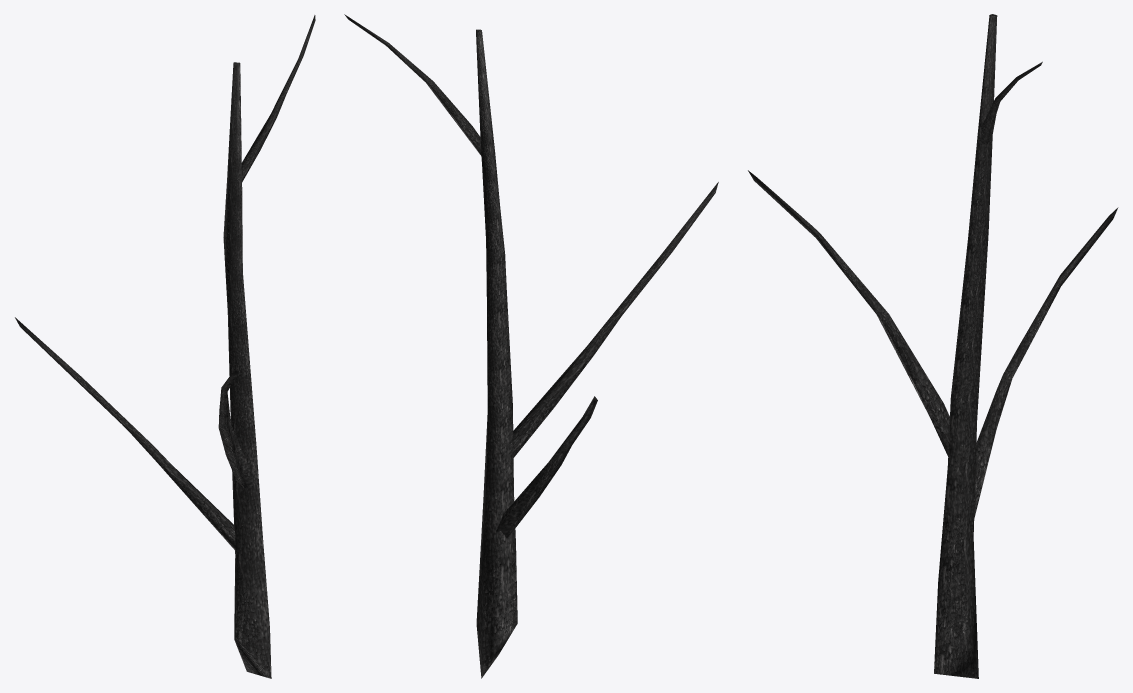
Rendered from tree_branch.glb.
3 views of the same model, side by side, from view 1: azimuth 30°, elevation 25°; view 2: azimuth 150°, elevation 25°; view 3: azimuth 270°, elevation 25° (orthographic). The views are drawn at different scales.
Visible parts, largest first — view 1: tree_branch -col; view 2: tree_branch -col; view 3: tree_branch -col.
Boxes of the visible parts, box(x1,y1,x2,y2) form: tree_branch -col: box(15, 15, 315, 678); tree_branch -col: box(344, 14, 718, 678); tree_branch -col: box(748, 14, 1118, 678).
Size of the model in its own units: 1.23 by 2.72 by 1.36.
1 material, 1 textured.
